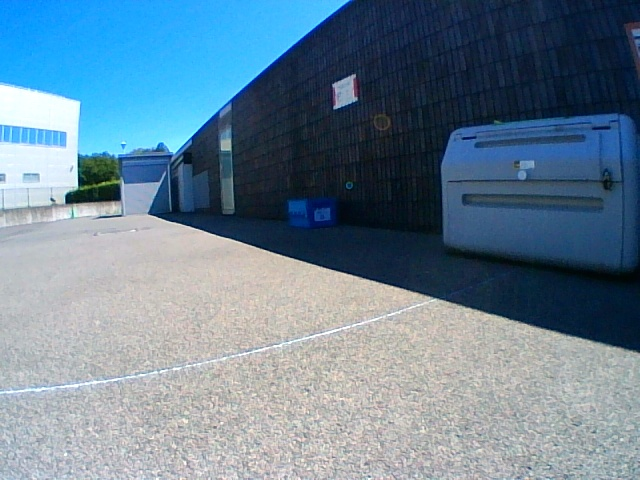blue_box: (288, 198, 337, 229)
tag: (315, 208, 328, 220)
